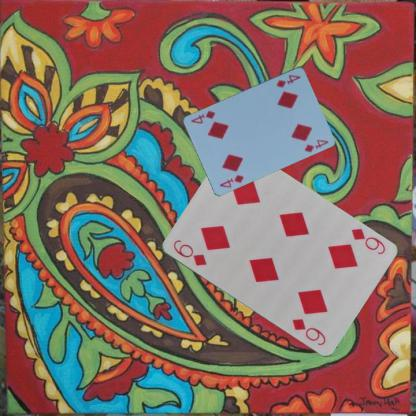4d: (217, 172, 245, 189), (274, 72, 301, 89)
6d: (348, 225, 386, 256), (170, 237, 208, 267)
